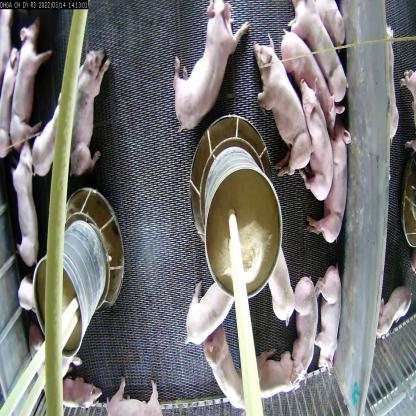Pig: (59, 42, 122, 188), (247, 30, 308, 171), (171, 10, 237, 128), (278, 30, 340, 112), (299, 8, 352, 97), (311, 121, 351, 238), (299, 76, 332, 204), (194, 330, 245, 412), (179, 273, 228, 350), (280, 270, 318, 368), (15, 16, 45, 140), (12, 140, 42, 262), (264, 228, 302, 321), (30, 95, 73, 168), (249, 349, 293, 415), (60, 366, 110, 416), (324, 268, 349, 362), (105, 385, 169, 415)
